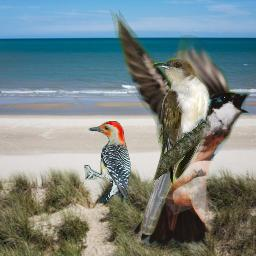Cuckoo: (140, 58, 211, 235)
Swallow: (109, 9, 252, 246)
Woodpecker: (84, 121, 132, 204)
